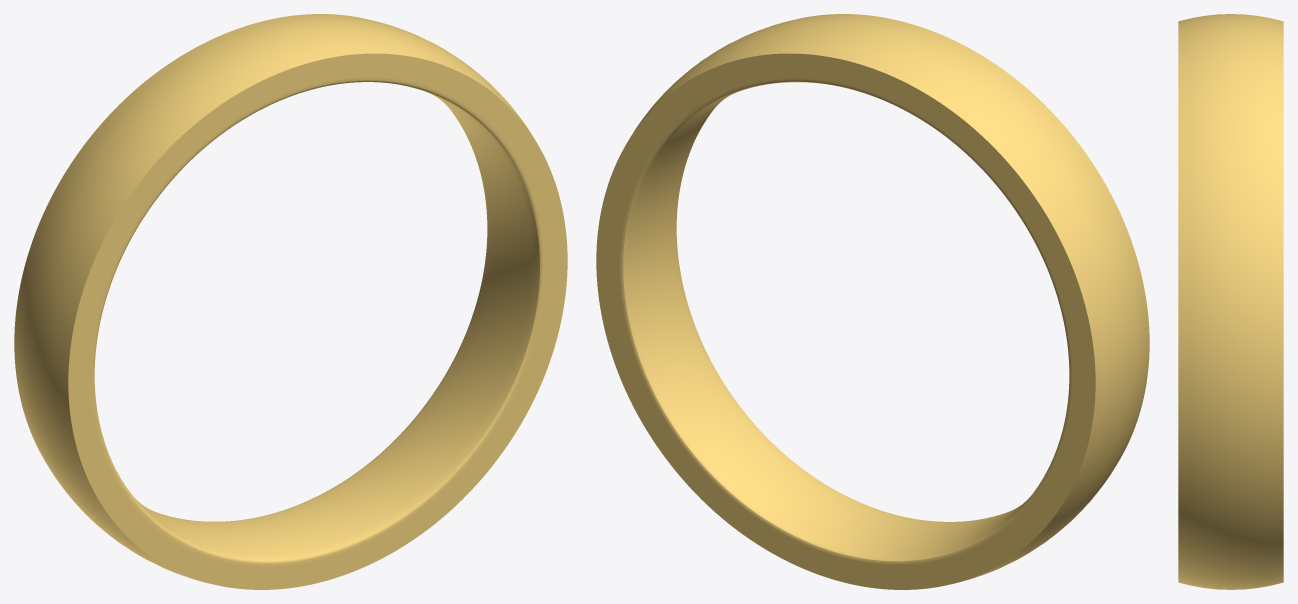
Rendered from NateYGmatte.glb.
3 renders of one model, left to right at view 1: azimuth 30°, elevation 25°; view 2: azimuth 150°, elevation 25°; view 3: azimuth 270°, elevation 25°, orthographic. The views are drawn at different scales.
Visible parts, largest first — view 1: Nate YG for 3d model; view 2: Nate YG for 3d model; view 3: Nate YG for 3d model.
Part boxes in pixels (left/top/right/bottom): Nate YG for 3d model: left=14, top=14, right=567, bottom=589; Nate YG for 3d model: left=596, top=14, right=1149, bottom=589; Nate YG for 3d model: left=1178, top=14, right=1283, bottom=589.
Size of the model in its own units: 21.37 by 21.37 by 3.9.
